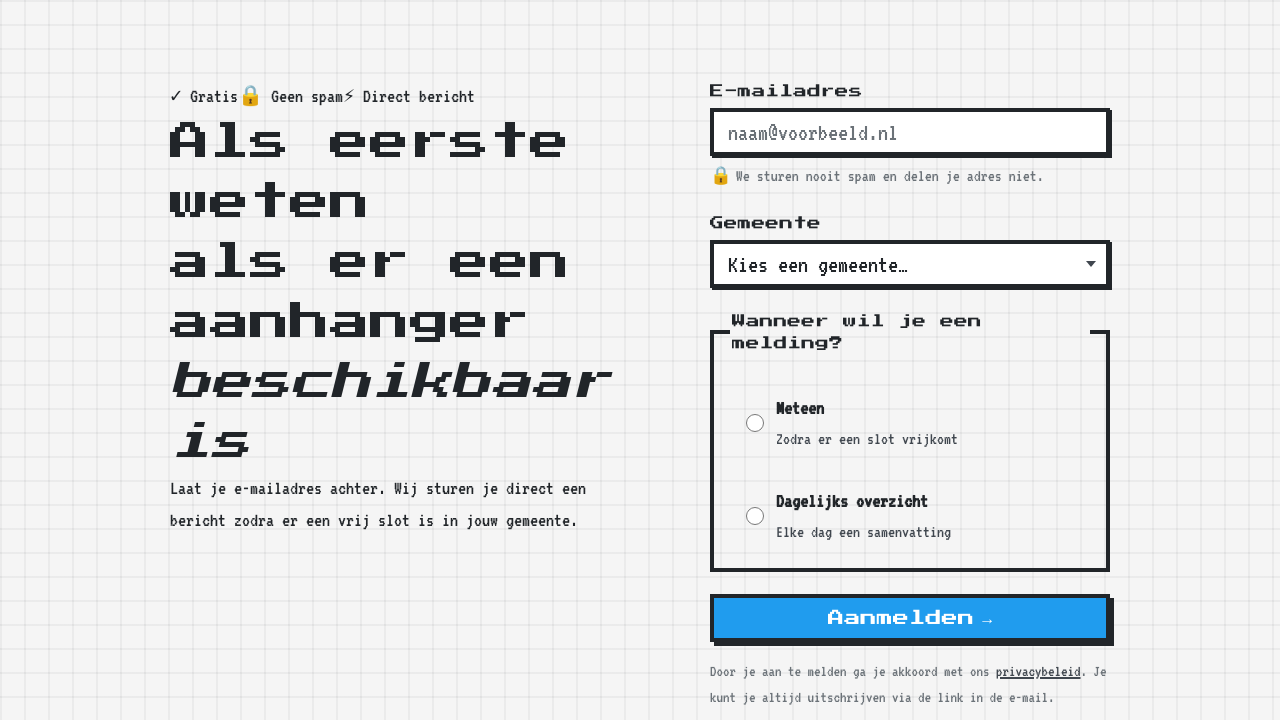
it: SubscribeComponent › shows township error on submit attempt with no township selected
This screenshot has width=1280, height=720.
Type "test@example.com" into the field labelled "E-mailadres" at (910, 132), box [710,108,1110,156]
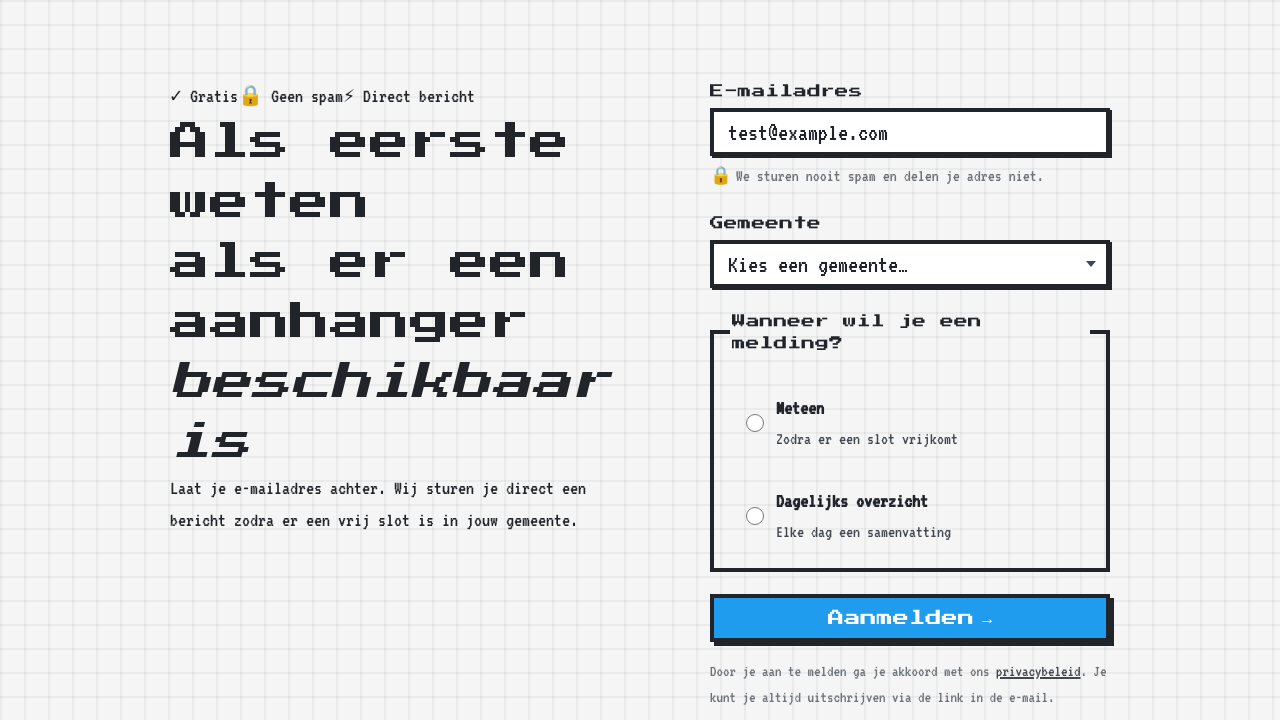
Submit the form, box [710,80,1110,642]
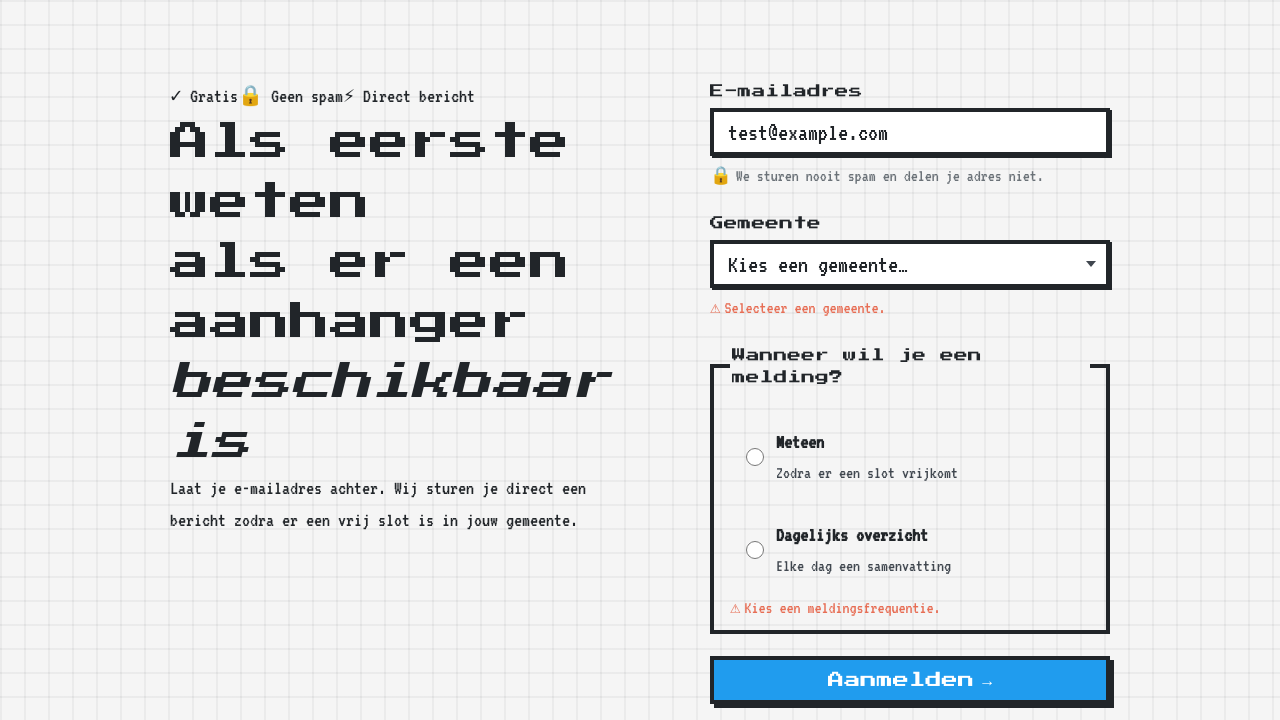
Expected: the text "⚠ Selecteer een gemeente." is shown, [710,299,886,317]
